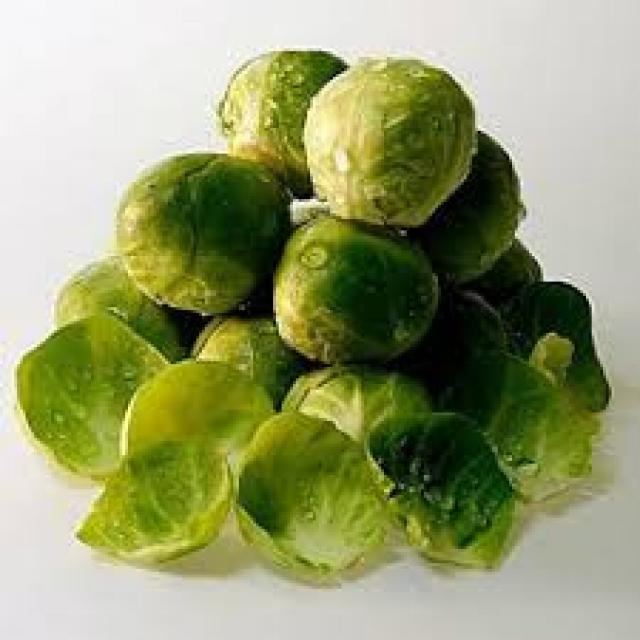organic waste: (296, 54, 478, 225), (233, 404, 393, 574), (114, 151, 284, 310), (441, 324, 592, 503), (265, 214, 438, 362), (372, 406, 514, 572), (17, 324, 165, 475), (216, 46, 347, 199), (74, 438, 230, 563), (406, 125, 520, 279), (117, 356, 276, 466), (498, 273, 608, 413), (51, 256, 185, 361), (276, 358, 429, 444), (190, 302, 302, 409), (461, 242, 540, 310)
